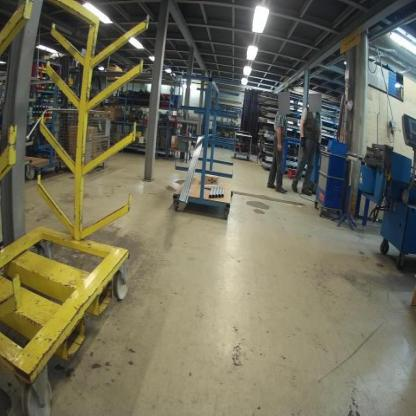stillage: (50, 106, 114, 169)
